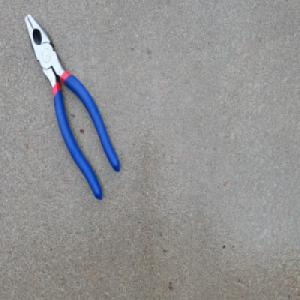Pliers: (25, 12, 120, 201)
